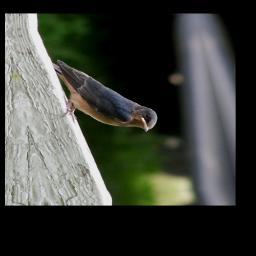Swallow: (45, 50, 161, 141)
